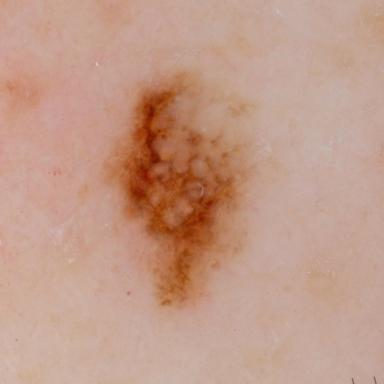nevus: (108, 72, 252, 304)
